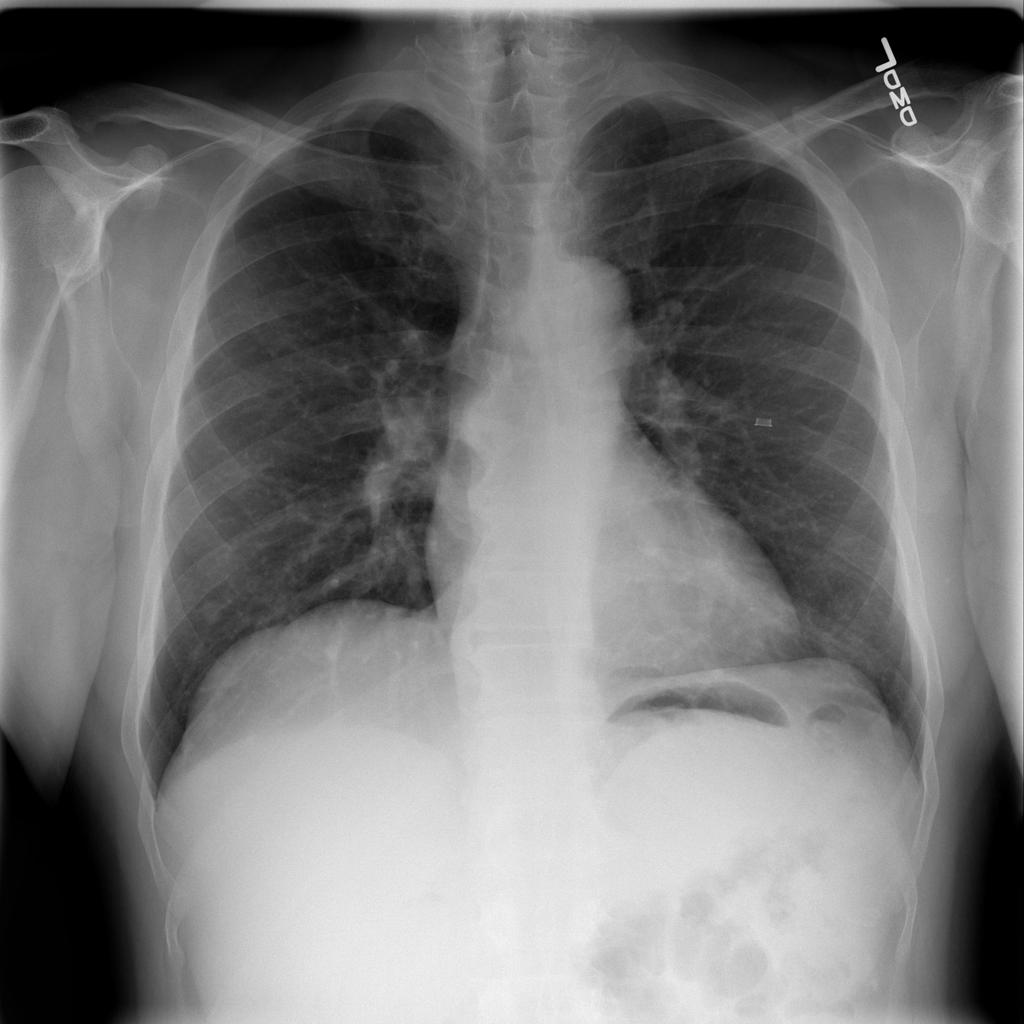nodule: (188, 585, 237, 636)
